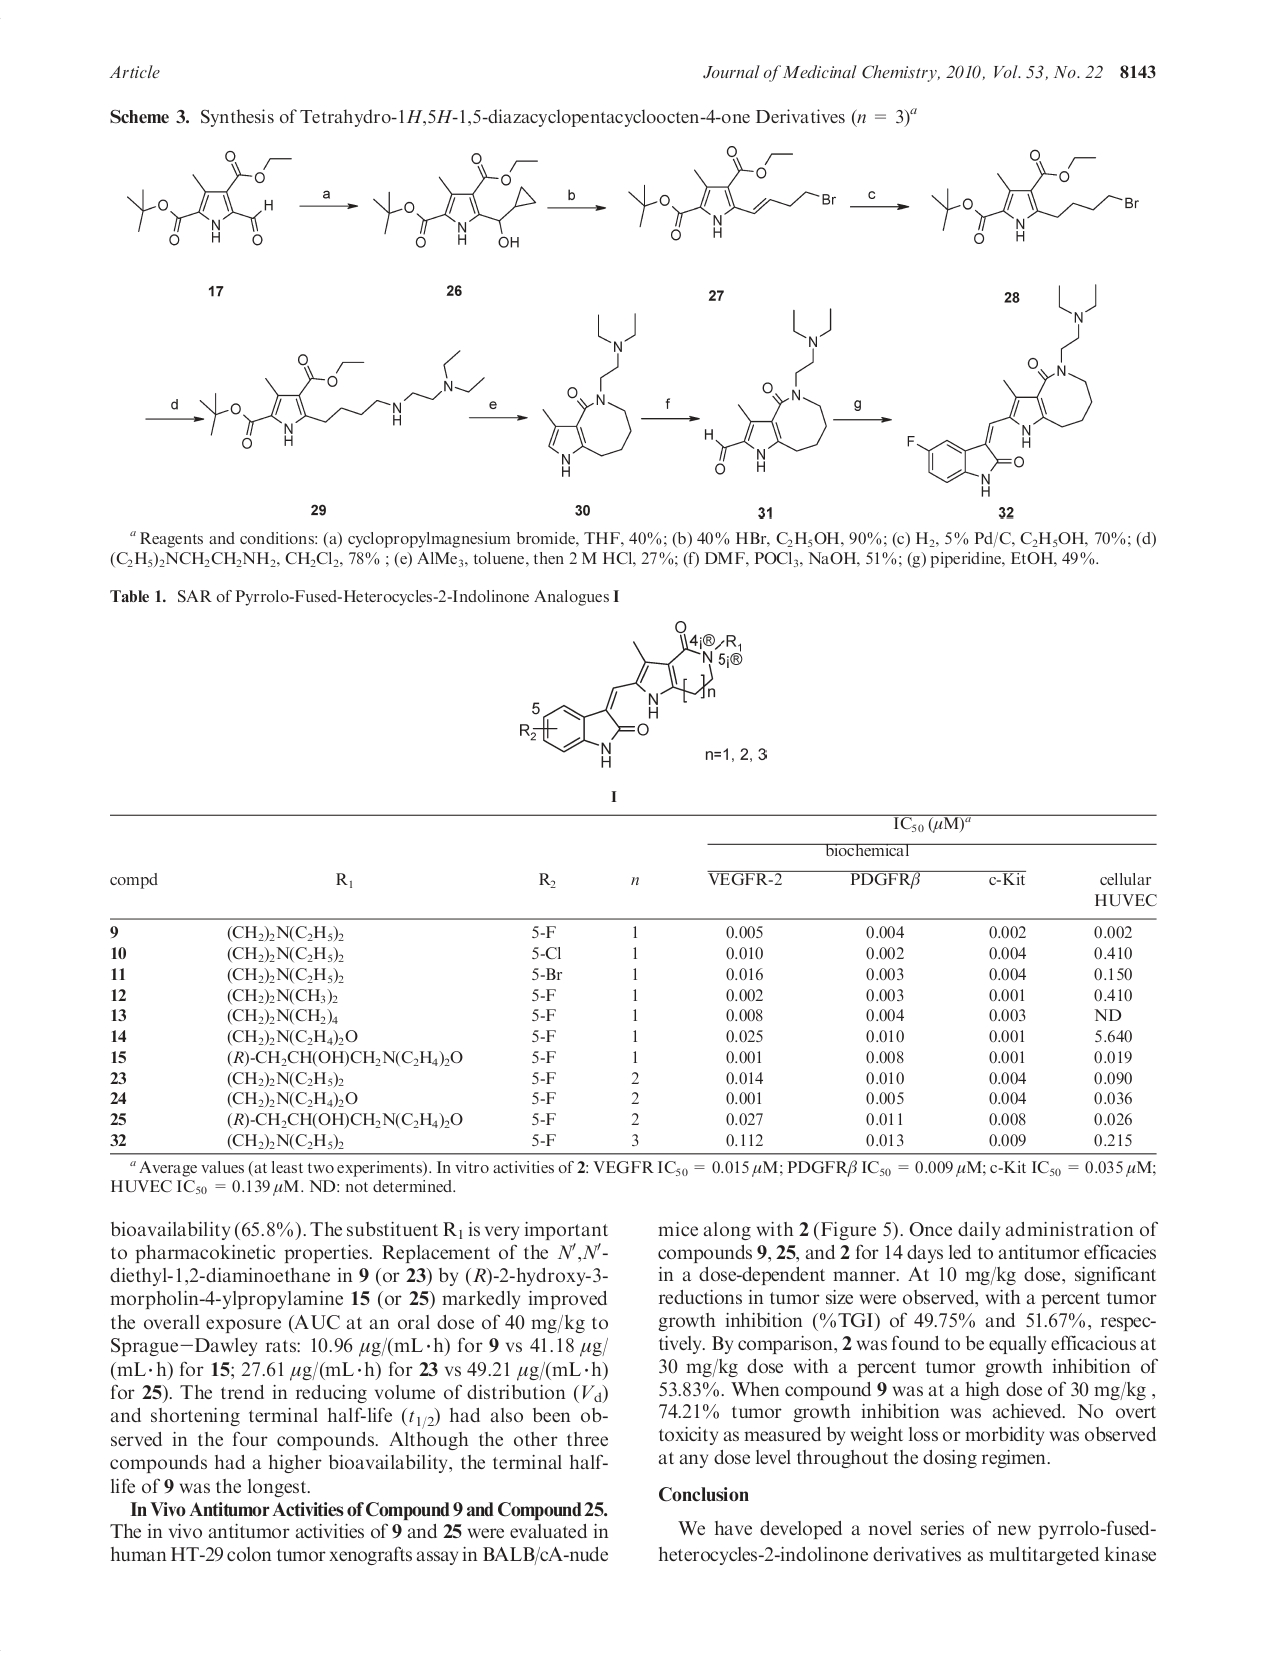exist_molecular: (906, 281, 1098, 497), (517, 618, 743, 770), (197, 348, 489, 449), (701, 303, 834, 476), (626, 144, 839, 243), (932, 148, 1141, 245), (372, 153, 541, 250), (543, 309, 638, 477), (126, 150, 293, 245)
